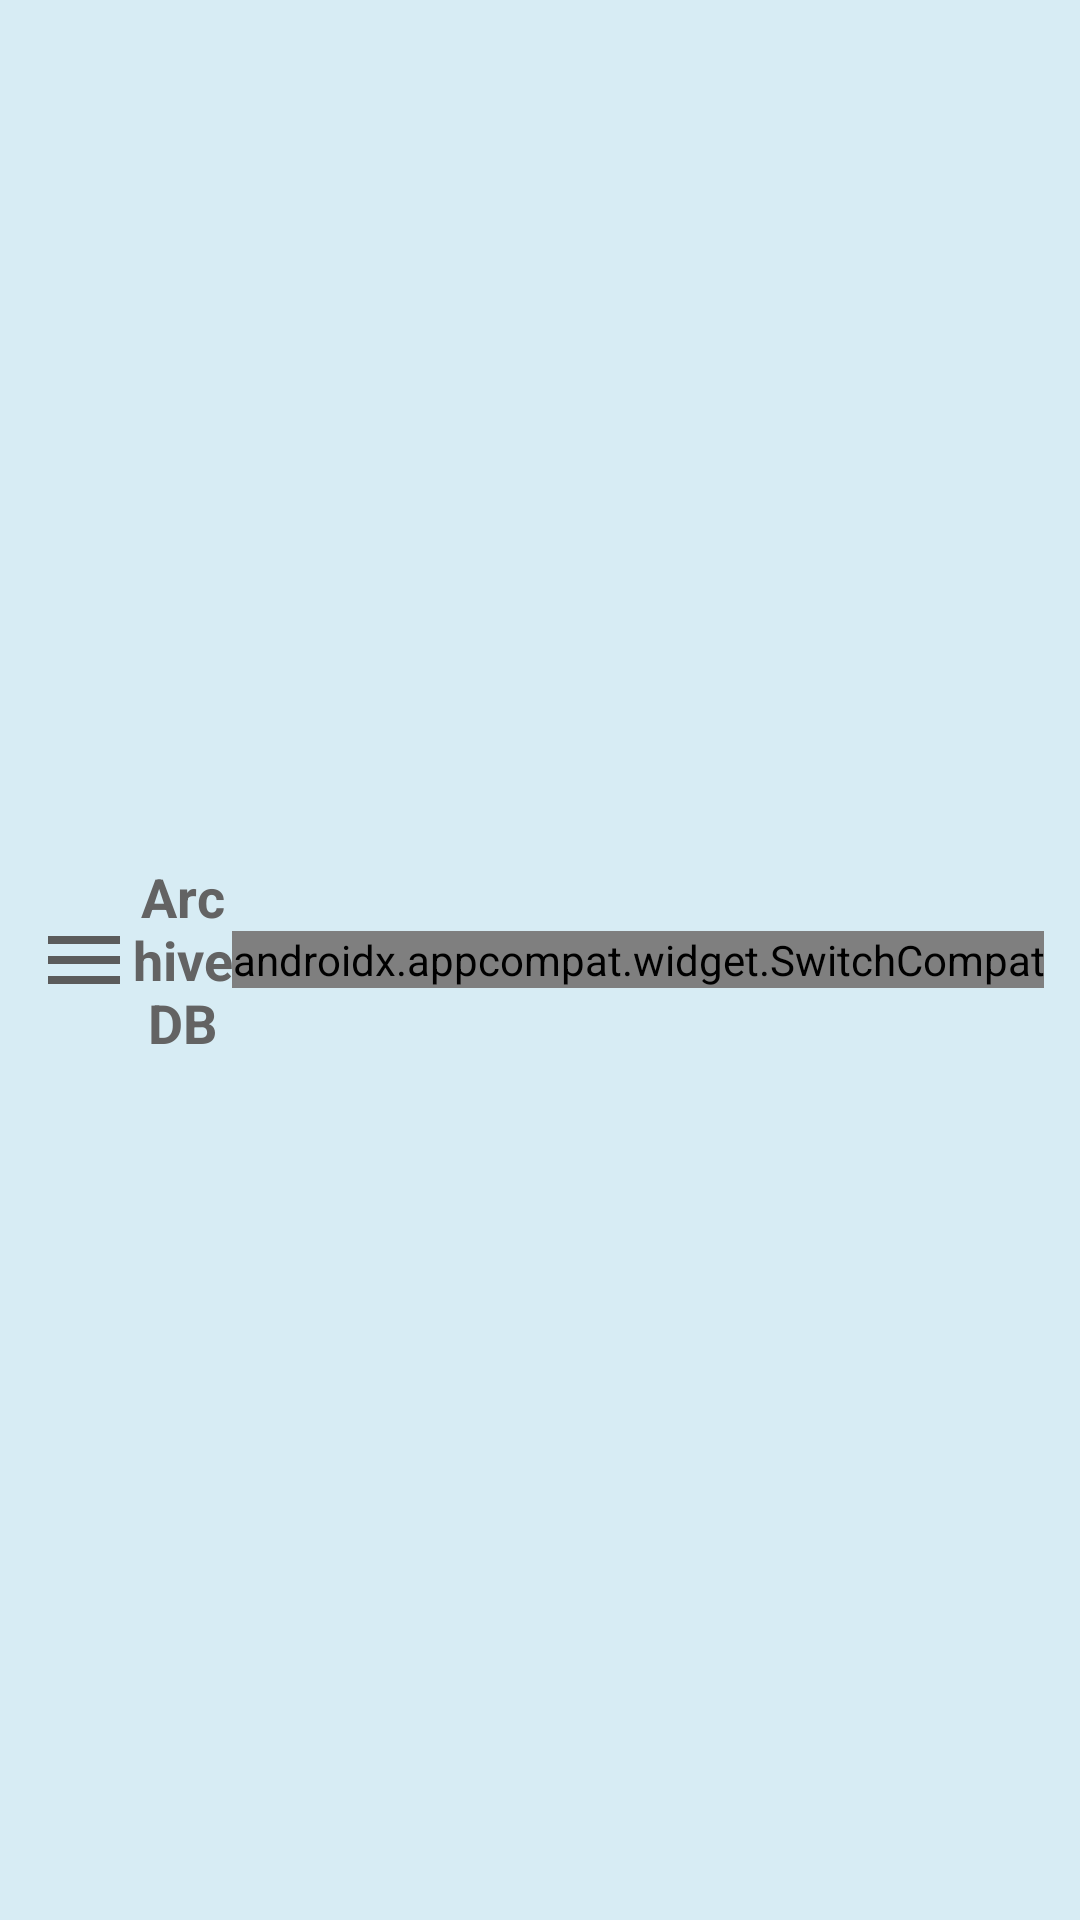

Icon bounding boxes for this 1080 × 1920 phone screenshot, format (x1, y1, x2, y2):
menu: (48, 936, 120, 984)
